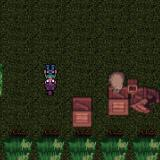Hide: (65, 94, 99, 132)
Obstacle: (95, 60, 160, 126), (1, 127, 35, 160), (35, 127, 67, 160), (66, 127, 98, 160), (99, 127, 130, 160), (131, 127, 160, 160)
Victim: (37, 60, 63, 100)
